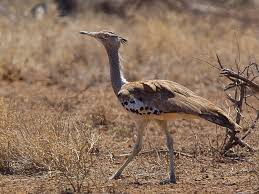Walking: (63, 15, 248, 190)
